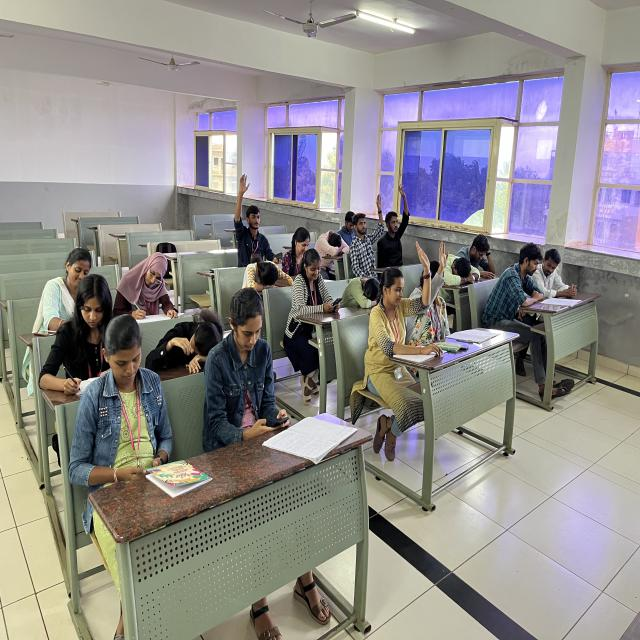Hand Rising: (377, 244, 430, 355), (222, 165, 282, 260), (410, 239, 451, 347), (349, 184, 386, 278), (380, 174, 417, 265)
Reading: (492, 228, 580, 331), (541, 225, 582, 320)
Sleeping: (160, 282, 223, 384), (238, 232, 299, 299), (336, 250, 382, 312), (434, 241, 479, 301), (314, 200, 344, 272)
Using Phone: (87, 309, 173, 472), (208, 287, 298, 437), (294, 246, 346, 348), (468, 229, 498, 284), (342, 200, 357, 245)
Writing: (42, 270, 132, 414), (112, 224, 185, 324)
